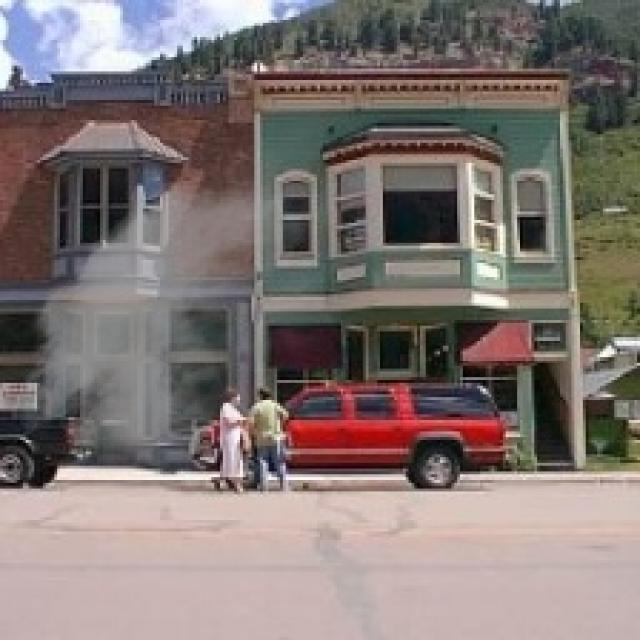smoke: (9, 140, 357, 489)
